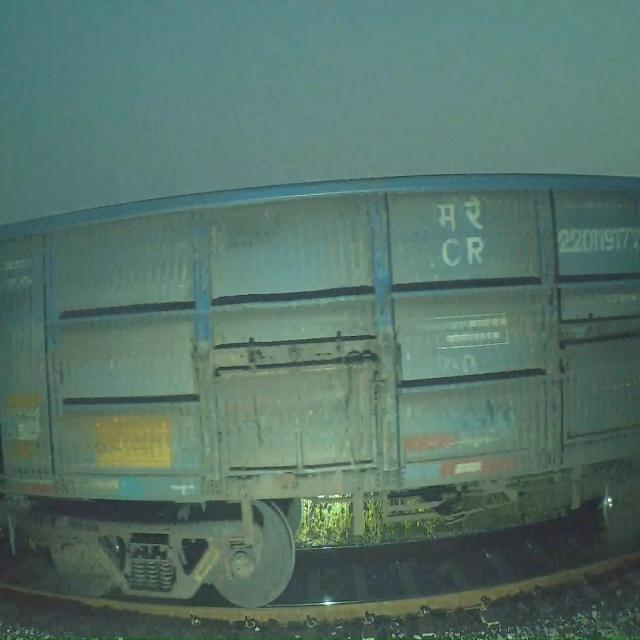WAgon-uic: (0, 168, 640, 617)
uic: (552, 220, 640, 258)
